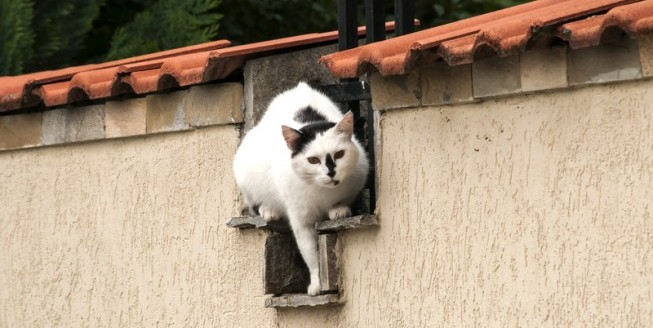cat: (236, 78, 379, 300)
